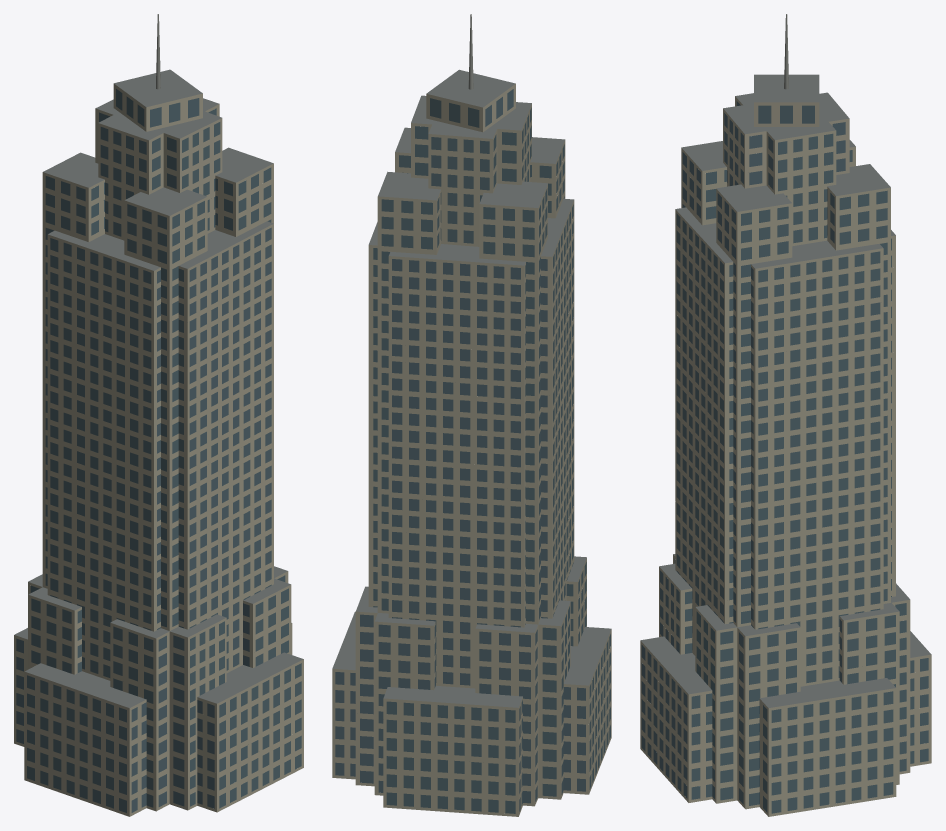
File: rembrandt-tower-near.glb
3 views of the same model, side by side, from view 1: azimuth 30°, elevation 25°; view 2: azimuth 150°, elevation 25°; view 3: azimuth 270°, elevation 25° (orthographic).
Parts seen in each view (by area): view 1: rembrandt-tower-0-stone, rembrandt-tower-0-glass, rembrandt-tower-0-roof; view 2: rembrandt-tower-0-stone, rembrandt-tower-0-glass, rembrandt-tower-0-roof; view 3: rembrandt-tower-0-stone, rembrandt-tower-0-glass, rembrandt-tower-0-roof.
Boxes of the visible parts, box(x1,y1,x2,y2) form: rembrandt-tower-0-stone: box(14, 83, 303, 816); rembrandt-tower-0-glass: box(16, 89, 301, 812); rembrandt-tower-0-roof: box(14, 69, 303, 708); rembrandt-tower-0-stone: box(332, 84, 611, 816); rembrandt-tower-0-glass: box(335, 89, 610, 813); rembrandt-tower-0-roof: box(332, 69, 611, 707); rembrandt-tower-0-stone: box(640, 96, 931, 816); rembrandt-tower-0-glass: box(641, 101, 928, 813); rembrandt-tower-0-roof: box(641, 74, 931, 707).
Size of the model in its own units: 53.05 by 150 by 53.36.
